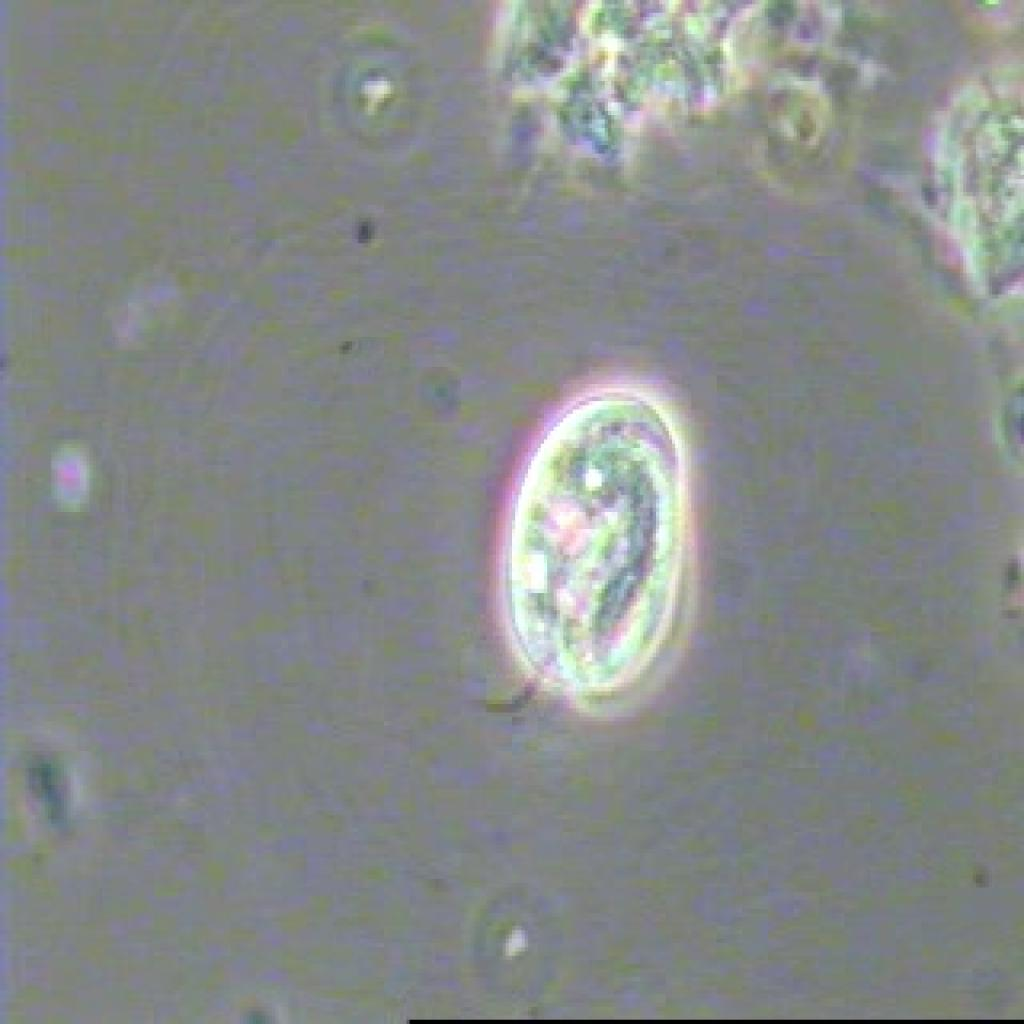Aspidisca: (475, 352, 696, 732)
